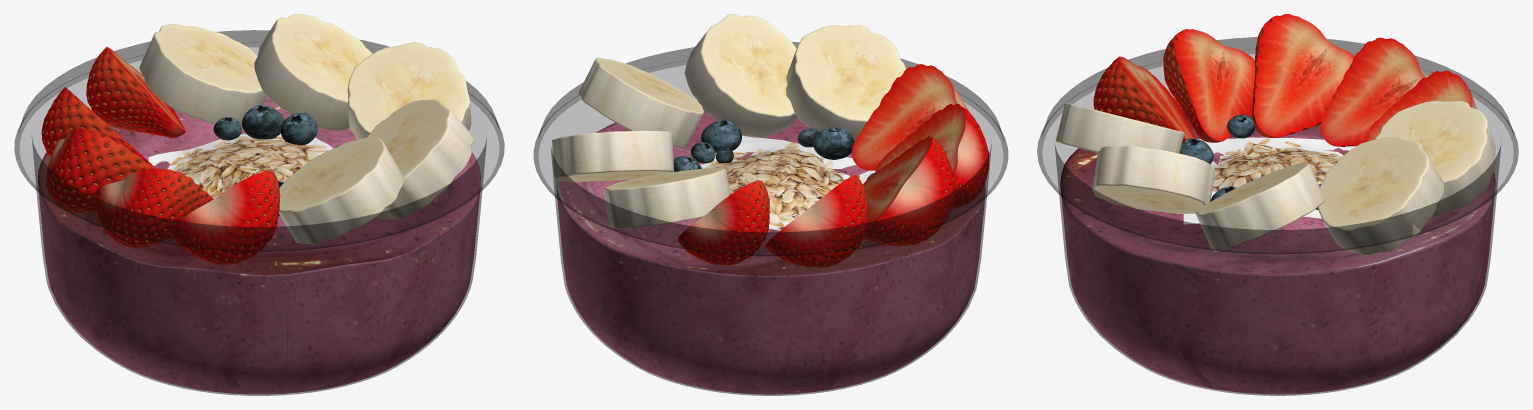
The model's file is acai_bowl-transformed.glb.
The picture shows the model from 3 angles, left to right: view 1: azimuth 30°, elevation 25°; view 2: azimuth 150°, elevation 25°; view 3: azimuth 270°, elevation 25°; orthographic projection. The views are drawn at different scales.
Parts seen in each view (by area): view 1: Object_3, Object_2, Object_7, Object_5, Object_6, Object_4, Object_8; view 2: Object_3, Object_2, Object_7, Object_5, Object_6, Object_4, Object_8; view 3: Object_3, Object_2, Object_7, Object_5, Object_6, Object_4, Object_8.
Part boxes in pixels (<box>): Object_3: <box>14,30,504,395</box>; Object_2: <box>38,95,480,394</box>; Object_7: <box>139,14,473,244</box>; Object_5: <box>41,47,280,264</box>; Object_6: <box>42,54,213,248</box>; Object_4: <box>148,133,333,198</box>; Object_8: <box>213,105,339,216</box>; Object_3: <box>533,42,1008,395</box>; Object_2: <box>556,111,985,394</box>; Object_7: <box>552,14,905,228</box>; Object_5: <box>678,64,988,267</box>; Object_6: <box>678,103,989,267</box>; Object_4: <box>700,135,875,230</box>; Object_8: <box>673,119,875,180</box>; Object_3: <box>1037,37,1518,395</box>; Object_2: <box>1060,105,1495,394</box>; Object_7: <box>1055,100,1495,254</box>; Object_5: <box>1093,14,1472,142</box>; Object_6: <box>1163,29,1476,146</box>; Object_4: <box>1183,137,1356,224</box>; Object_8: <box>1179,114,1321,209</box>.
Size of the model in its own units: 2.88 by 1.63 by 2.88.
6 materials, 5 textured.
